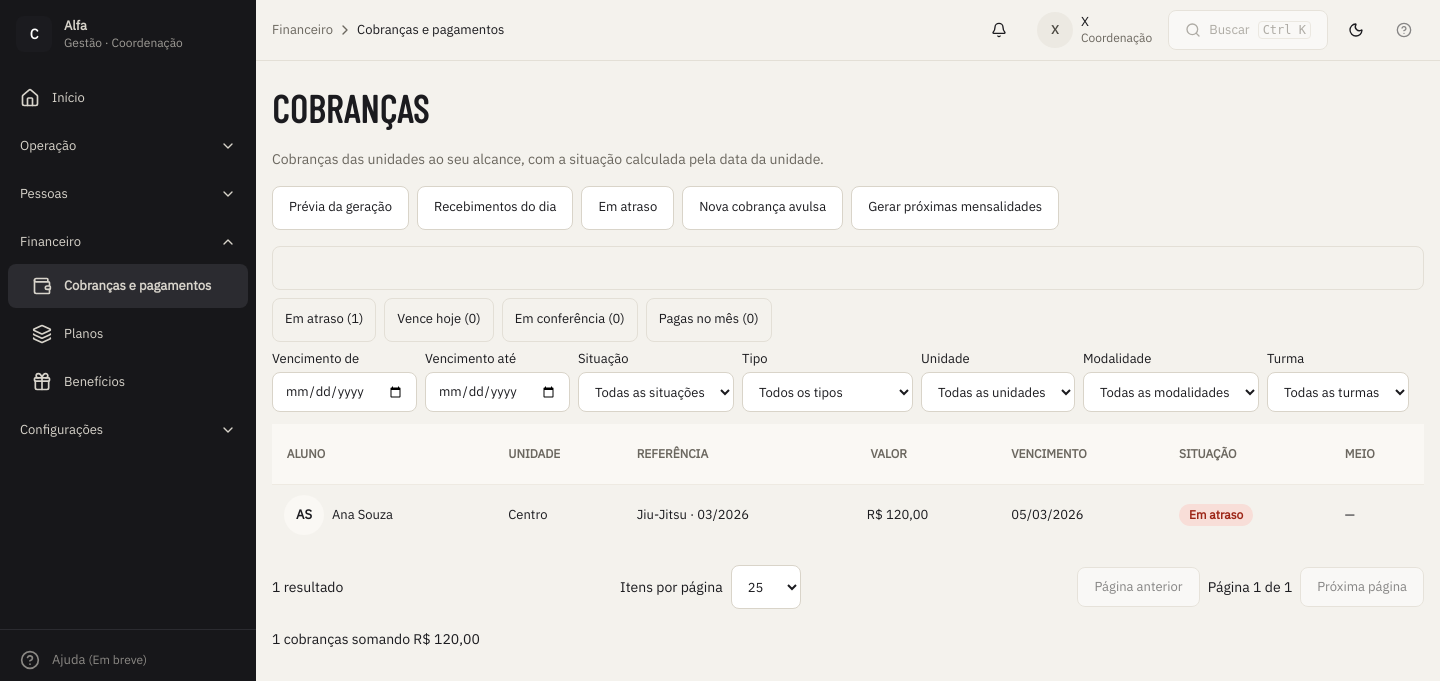
Scenario: ChargePanel (RF-COB-02) › CA1/CA15: cobrança paga mostra pagamento com recibo e não oferece Cancelar nem Renegociar
The width and height of the screenshot is (1440, 681).
Click the button with aria-label "Abrir cobrança de Ana Souza": x=693, y=515 x1=637 y1=493 x2=749 y2=537
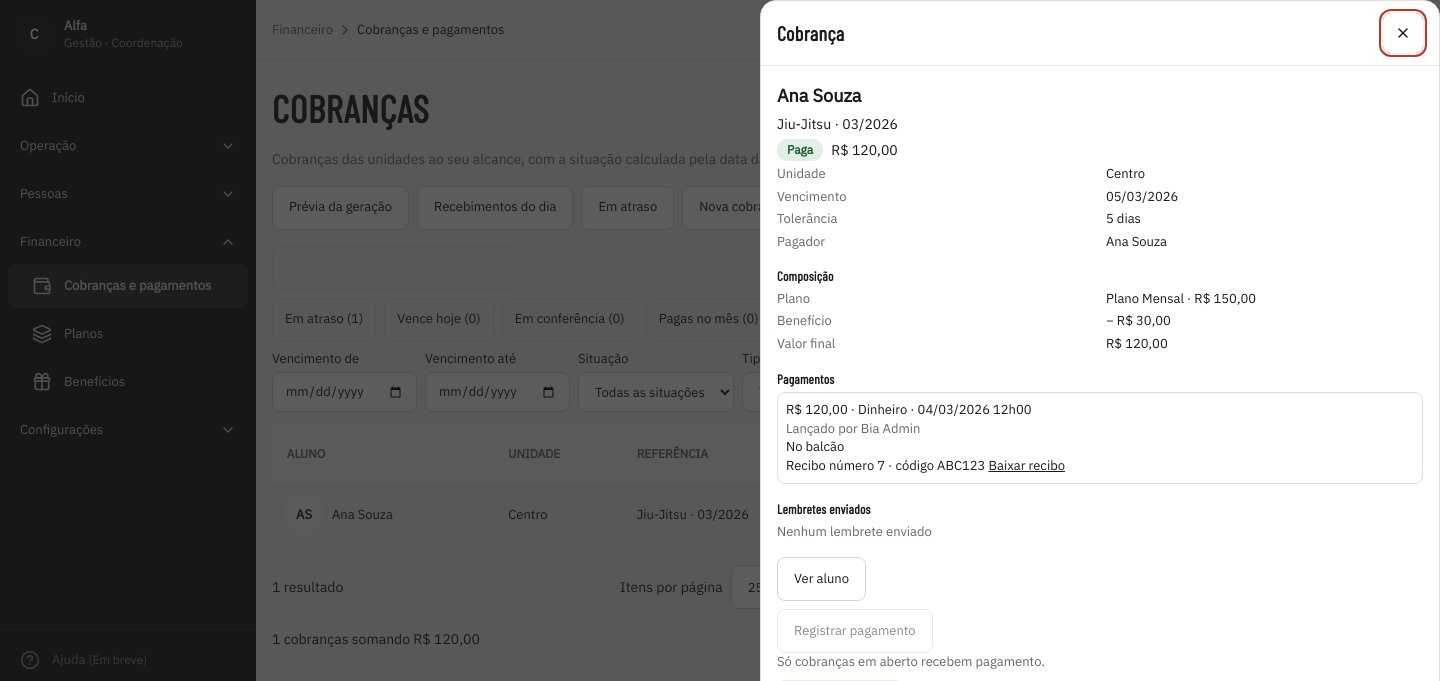
Expected: the text "R$ 120,00 · Dinheiro · 04/03/2026 12h00" is shown, x1=786 y1=401 x2=1032 y2=418
Expected: the text "Lançado por Bia Admin" is shown, x1=786 y1=420 x2=920 y2=437
Expected: the text "No balcão" is shown, x1=786 y1=438 x2=844 y2=455
